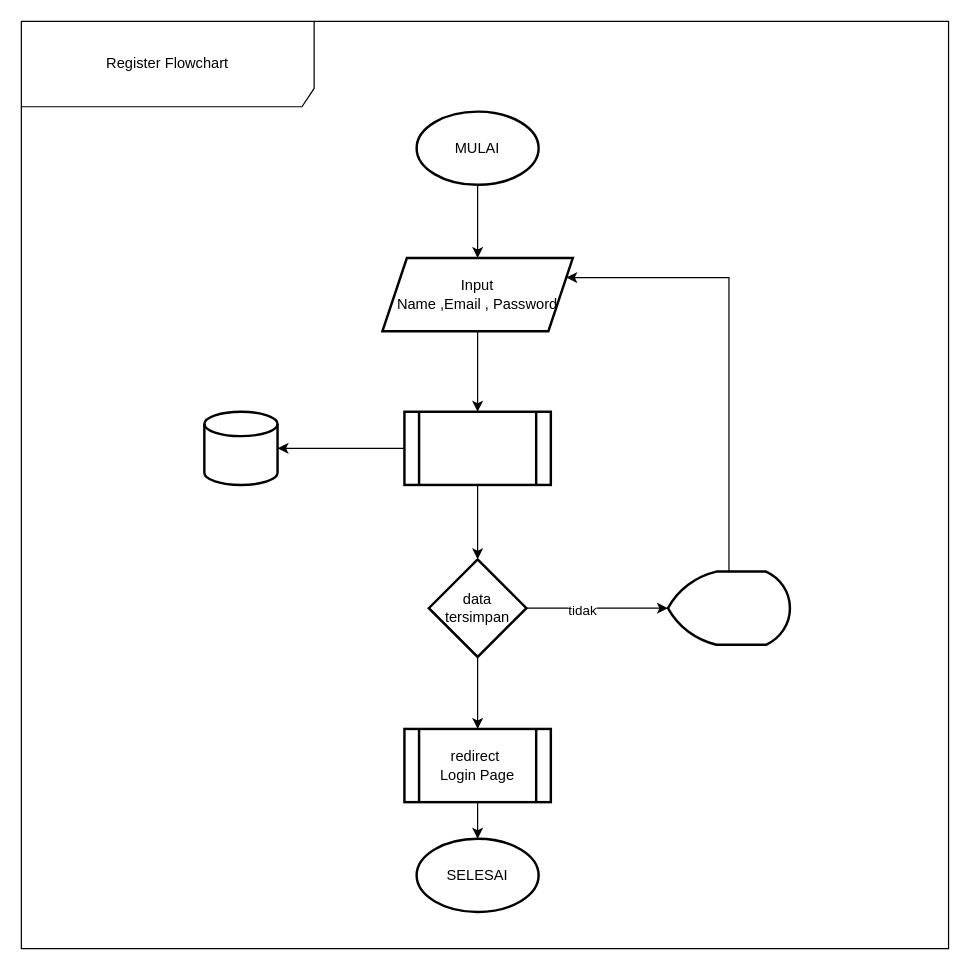
The diagram is 970 pixels wide and 970 high, and some of its shapes have lost their labels. The box of each missing label's shape, as (x1, y1, x2, y2) in pixels:
pesan error: (666, 570, 791, 645)
simpan data: (403, 410, 551, 486)
tabel user: (203, 410, 278, 486)
